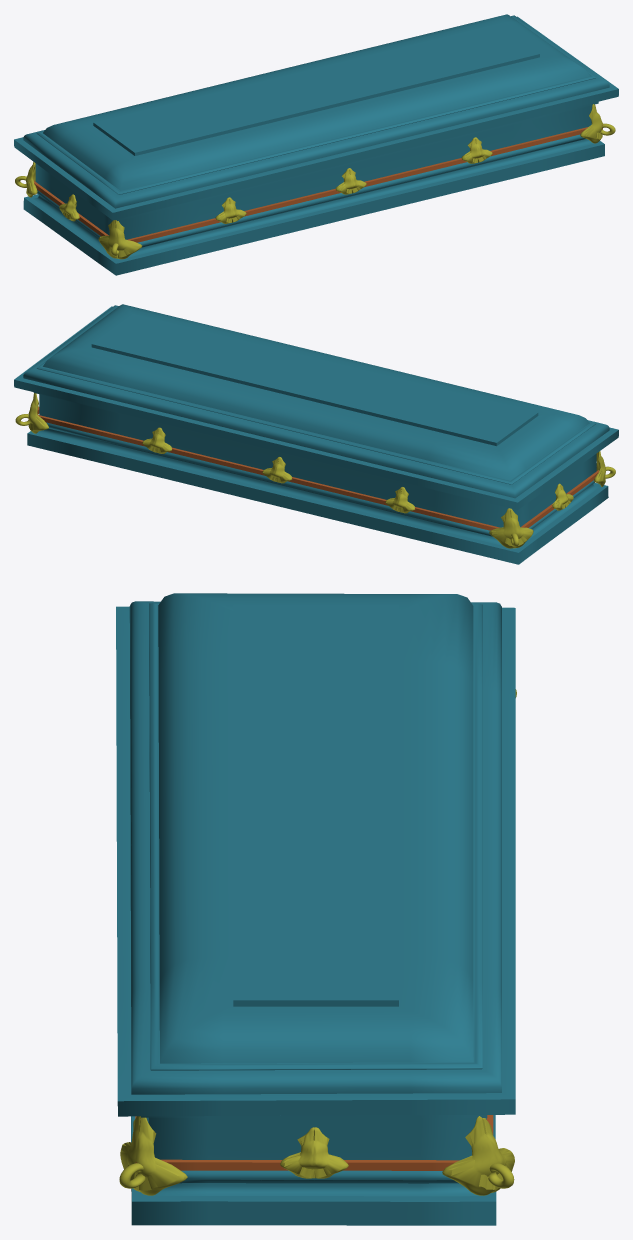
File: Coffin.fbx
The picture shows the model from 3 angles, top to bottom: view 1: azimuth 30°, elevation 25°; view 2: azimuth 150°, elevation 25°; view 3: azimuth 270°, elevation 25°; orthographic projection. The views are drawn at different scales.
Visible parts, largest first — view 1: polySurface5; view 2: polySurface5; view 3: polySurface5.
Boxes of the visible parts, x1,y1,x2,y2 form: polySurface5: [14, 14, 618, 275]; polySurface5: [14, 304, 618, 564]; polySurface5: [116, 593, 516, 1225].
Size of the model in its own units: 308 by 54.04 by 105.
